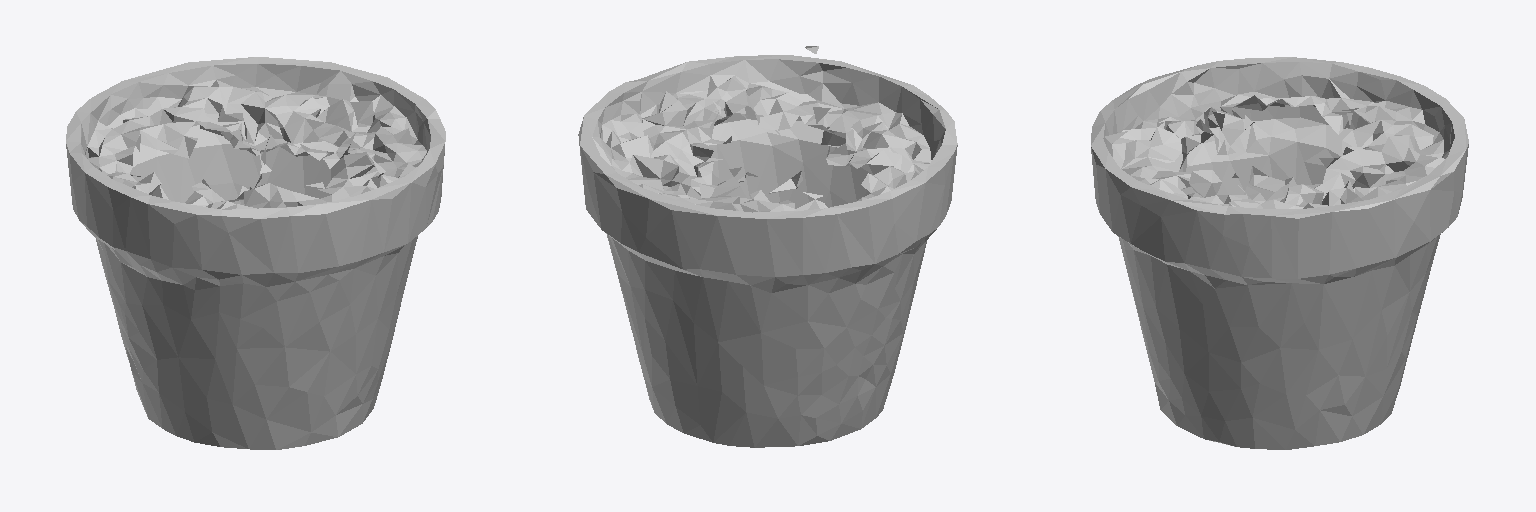
The model's file is MacetaAbajo.obj.
3 renders of one model, left to right at view 1: azimuth 30°, elevation 25°; view 2: azimuth 150°, elevation 25°; view 3: azimuth 270°, elevation 25°, orthographic.
Visible parts, largest first — view 1: polySurface18 Mesh; view 2: polySurface18 Mesh; view 3: polySurface18 Mesh.
Boxes of the visible parts, x1=… form: polySurface18 Mesh: x1=66, y1=57, x2=445, y2=449; polySurface18 Mesh: x1=578, y1=46, x2=957, y2=447; polySurface18 Mesh: x1=1091, y1=57, x2=1468, y2=449.
Bounding box in the file's own units: 0.213 × 0.179 × 0.2123.